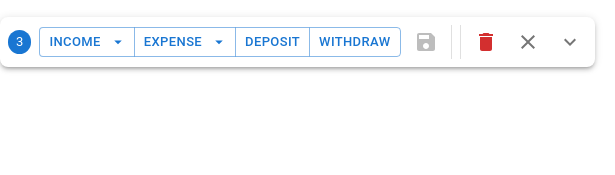
CompactActionBar › Type selection › opens expense menu when expense button is clicked
Click the button with test id "expense-button".
click(185, 42)  # box x1=134 y1=27 x2=236 y2=57
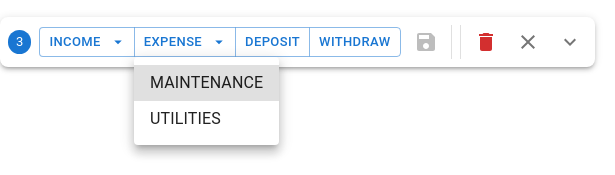
Now the element with test id "expense-menu" is shown, box x1=134 y1=57 x2=279 y2=145
